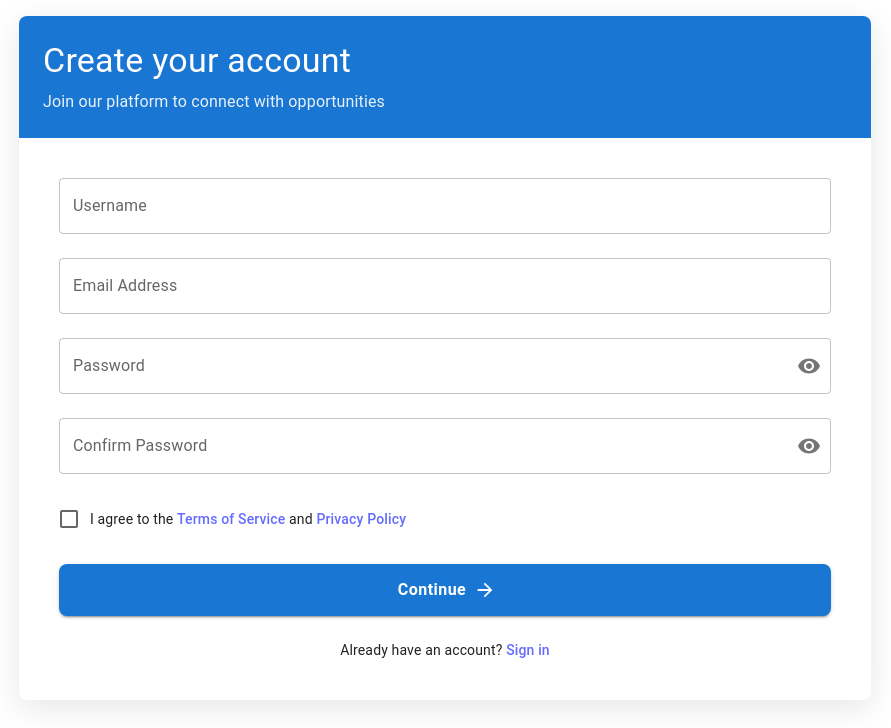
Test case: RegisterPage › allows navigation back from user type to credentials
This screenshot has width=891, height=728.
// Go to user type step
Type "testuser" into the field labelled "Username" at (445, 206), box left=59, top=178, right=831, bottom=234
Type "test@example.com" into the field labelled "Email Address" at (445, 286), box left=59, top=258, right=831, bottom=314
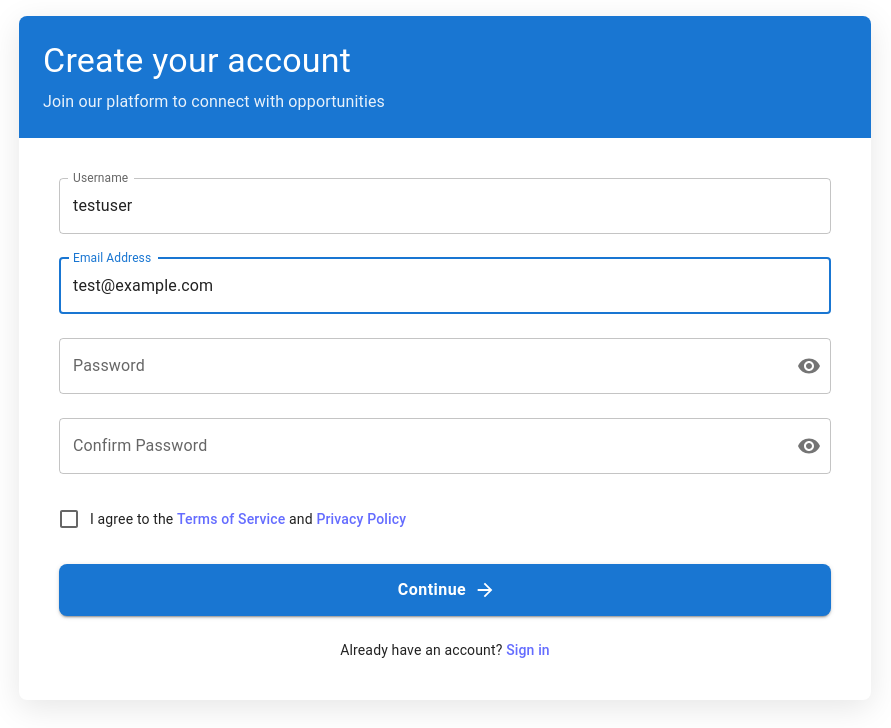
Type "Password123!" into the password field labelled "Password" at (420, 366), box left=59, top=338, right=781, bottom=394
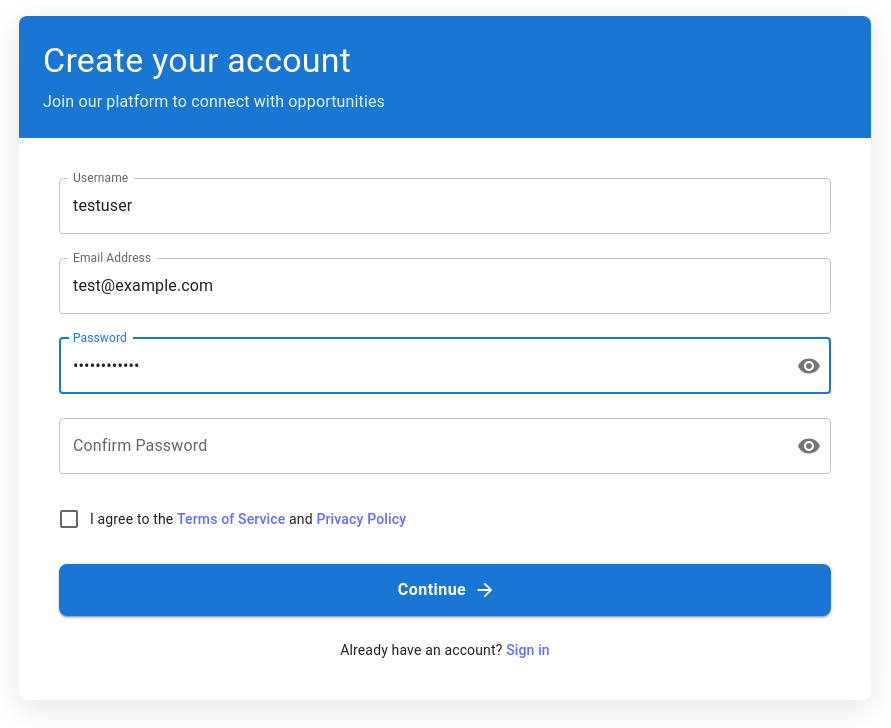
Type "Password123!" into the password field labelled "Confirm Password" at (420, 446), box left=59, top=418, right=781, bottom=474
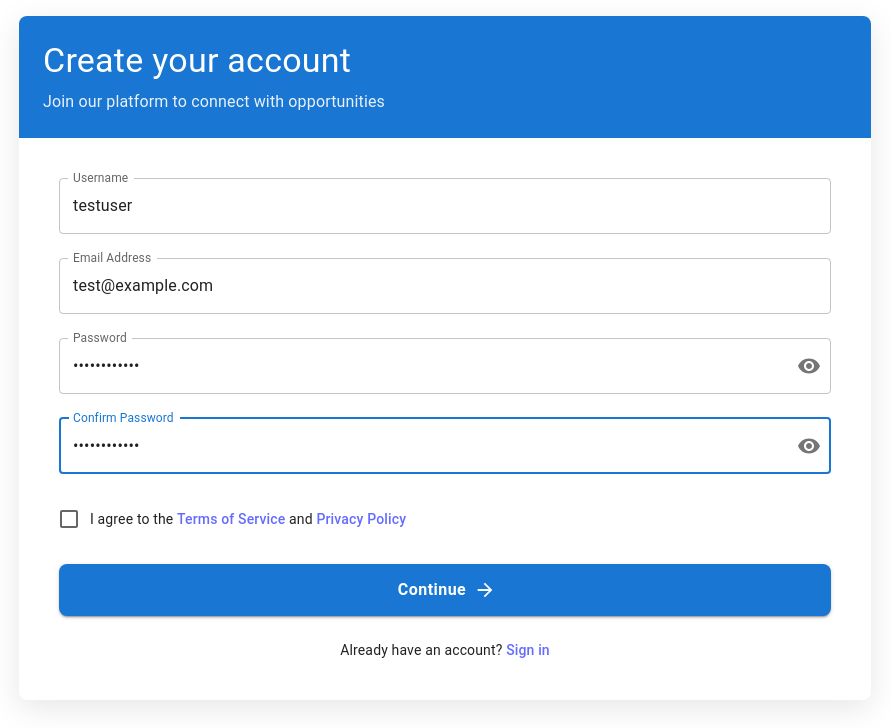
Click the checkbox labelled "I agree to the Terms of Service and Privacy Policy" at (232, 519), box left=57, top=507, right=406, bottom=531
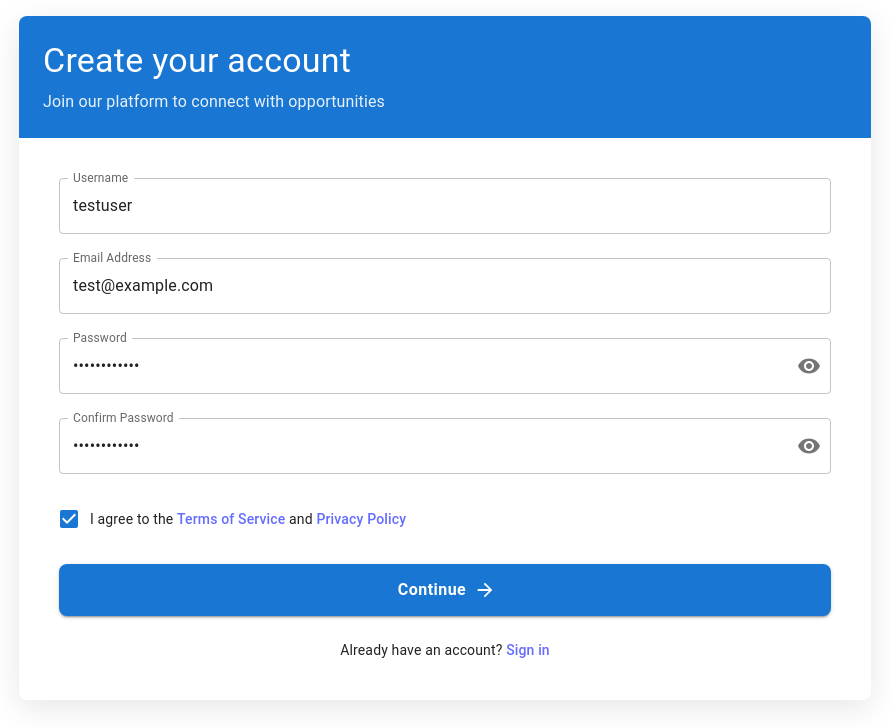
Click the button "Continue" at (445, 590), box left=59, top=564, right=831, bottom=616
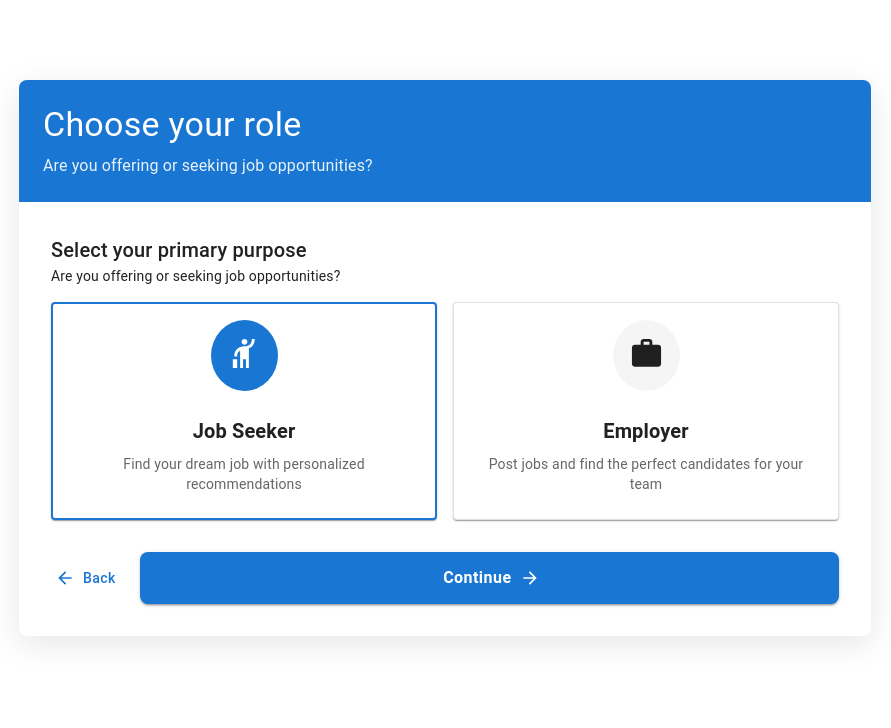
Expected: the heading "Choose your role" is shown, left=43, top=104, right=302, bottom=144
// Click back button
Click the button "Back" at (87, 578), box left=51, top=552, right=124, bottom=604
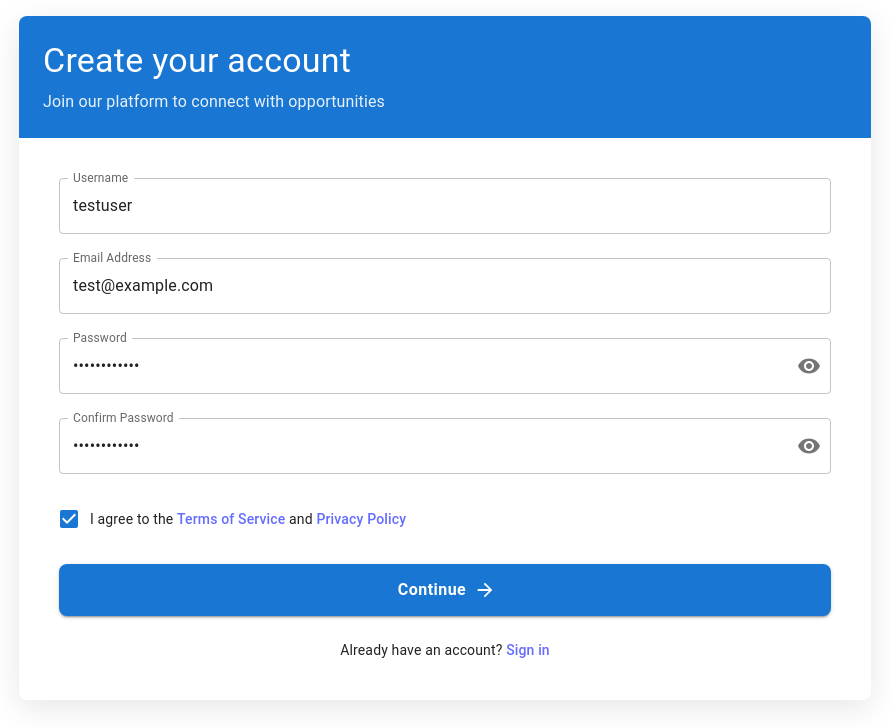
Expected: the heading "Create your account" is shown, left=43, top=40, right=351, bottom=80
